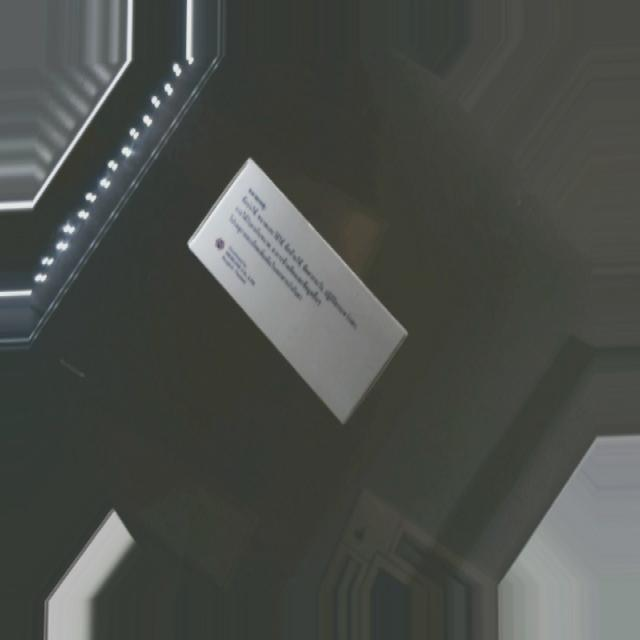sefloc: (168, 155, 426, 424)
